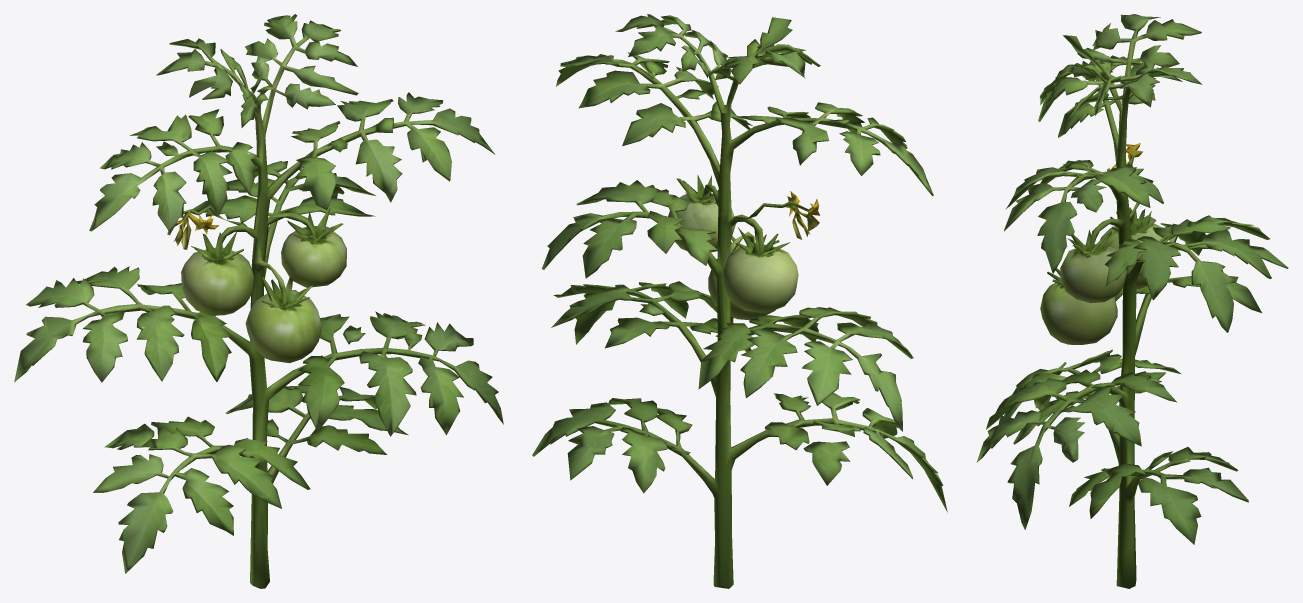
File: green-fruit.glb
The picture shows the model from 3 angles, left to right: view 1: azimuth 30°, elevation 25°; view 2: azimuth 150°, elevation 25°; view 3: azimuth 270°, elevation 25°; orthographic projection. The views are drawn at different scales.
Parts seen in each view (by area): view 1: tripo_node_6471039b-1065-4722-97d3-fdf63e132b27; view 2: tripo_node_6471039b-1065-4722-97d3-fdf63e132b27; view 3: tripo_node_6471039b-1065-4722-97d3-fdf63e132b27.
Boxes of the visible parts, x1,y1,x2,y2 form: tripo_node_6471039b-1065-4722-97d3-fdf63e132b27: [14, 14, 503, 588]; tripo_node_6471039b-1065-4722-97d3-fdf63e132b27: [532, 14, 947, 588]; tripo_node_6471039b-1065-4722-97d3-fdf63e132b27: [976, 14, 1288, 588].
Bounding box in the file's own units: 0.7892 × 0.9991 × 0.5212.
Materials: 1 (1 with a texture image).
